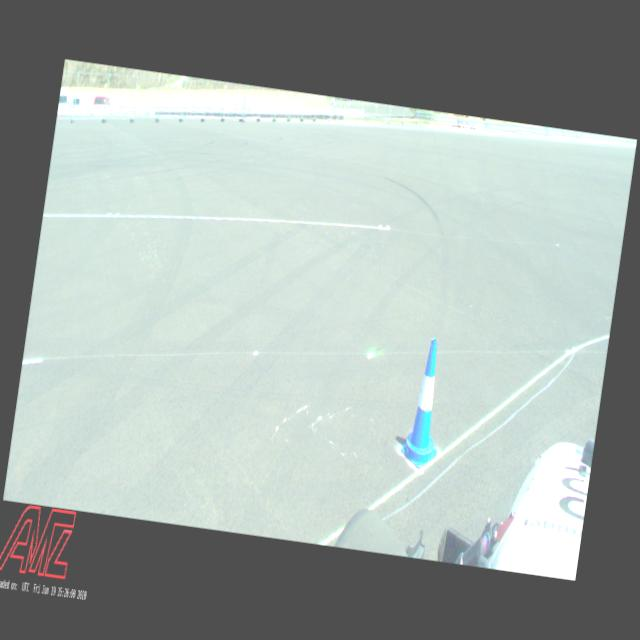blue_cone: (398, 336, 452, 471)
